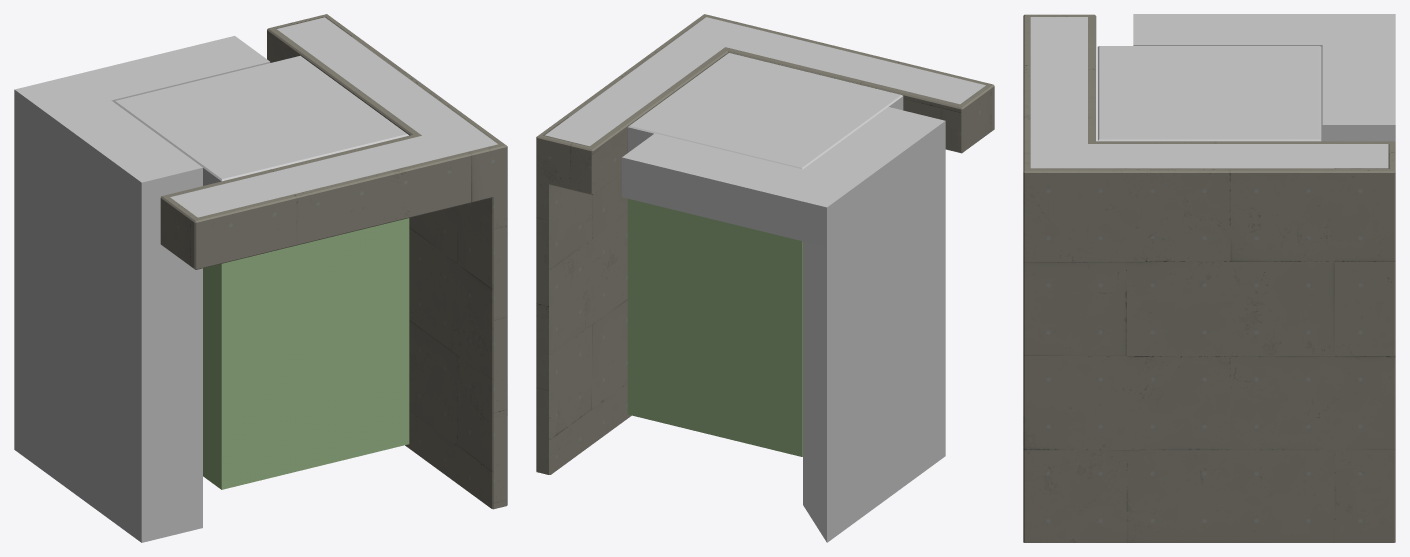
File: PlatformLargeColumnOscY.fbx
3 views of the same model, side by side, from view 1: azimuth 30°, elevation 25°; view 2: azimuth 150°, elevation 25°; view 3: azimuth 270°, elevation 25° (orthographic). The views are drawn at different scales.
Parts seen in each view (by area): view 1: PlatformLargeColumnOscY_Floor, ForceField, ColumnTall; view 2: PlatformLargeColumnOscY_Floor, ForceField, ColumnTall; view 3: PlatformLargeColumnOscY_Floor, ColumnTall.
Boxes of the visible parts, x1,y1,x2,y2 form: PlatformLargeColumnOscY_Floor: (14,14,507,542); ForceField: (203,218,409,489); ColumnTall: (114,55,408,185); PlatformLargeColumnOscY_Floor: (536,14,994,542); ForceField: (627,198,802,456); ColumnTall: (627,53,903,169); PlatformLargeColumnOscY_Floor: (1023,14,1395,542); ColumnTall: (1097,46,1321,141).
Size of the model in its own units: 500 by 550 by 500.
